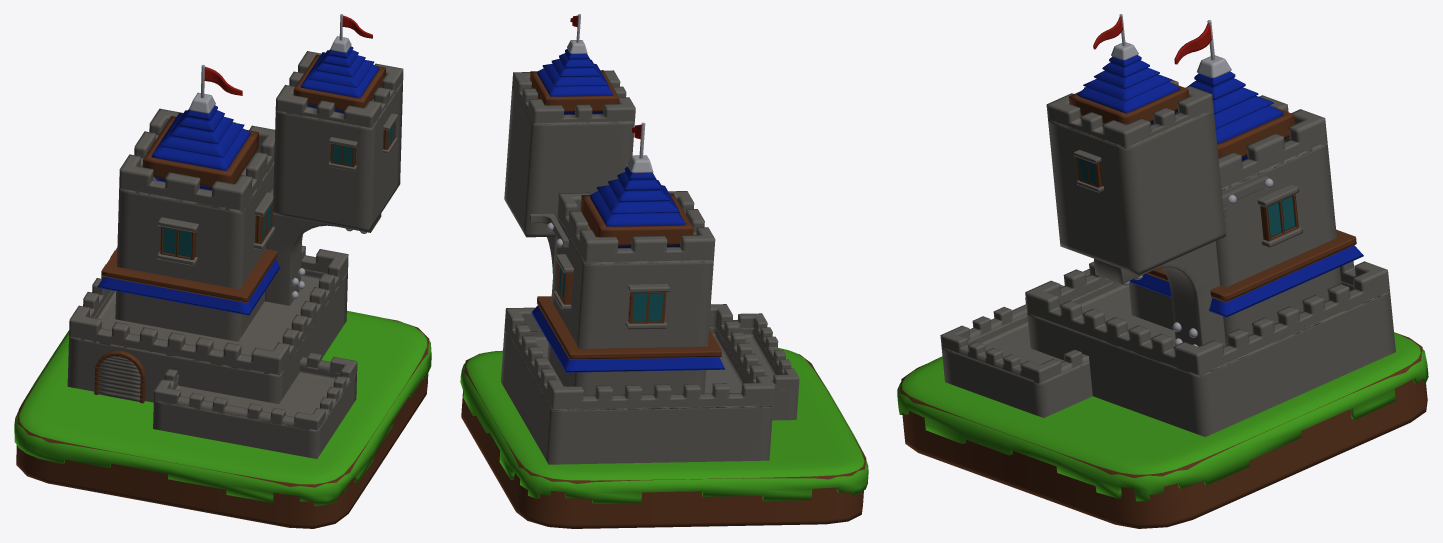
The model's file is castillo_numeros.glb.
The picture shows the model from 3 angles, left to right: view 1: azimuth 30°, elevation 25°; view 2: azimuth 150°, elevation 25°; view 3: azimuth 270°, elevation 25°; orthographic projection. The views are drawn at different scales.
Visible parts, largest first — view 1: Castle 6, Castle 6.010, Castle 6.009, Castle 6.007, Castle 6.032, Castle 6.008, Castle 6.014, Castle 6.016, Castle 6.006, Castle 6.013, Castle 6.015, Castle 6.033 (+10 smaller); view 2: Castle 6, Castle 6.007, Castle 6.010, Castle 6.032, Castle 6.009, Castle 6.014, Castle 6.016, Castle 6.006, Castle 6.015, Castle 6.031, Castle 6.030, Castle 6.027 (+8 smaller); view 3: Castle 6, Castle 6.007, Castle 6.009, Castle 6.032, Castle 6.010, Castle 6.014, Castle 6.008, Castle 6.033, Castle 6.015, Castle 6.016, Castle 6.013, Castle 6.027 (+8 smaller).
Boxes of the visible parts, x1,y1,x2,y2 form: Castle 6: (14, 311, 431, 506); Castle 6.010: (115, 157, 274, 341); Castle 6.009: (272, 82, 402, 231); Castle 6.007: (67, 269, 347, 403); Castle 6.032: (16, 318, 429, 528); Castle 6.008: (153, 367, 356, 458); Castle 6.014: (69, 245, 348, 375); Castle 6.016: (119, 108, 274, 212); Castle 6.006: (151, 105, 250, 190); Castle 6.013: (153, 352, 357, 431); Castle 6.015: (275, 51, 403, 129); Castle 6.033: (264, 188, 381, 305); Castle 6: (460, 348, 868, 503); Castle 6.007: (500, 327, 773, 464); Castle 6.010: (547, 217, 713, 395); Castle 6.032: (461, 353, 866, 528); Castle 6.009: (504, 86, 634, 237); Castle 6.014: (504, 304, 774, 410); Castle 6.016: (557, 191, 715, 264); Castle 6.006: (590, 166, 685, 247); Castle 6.015: (512, 70, 635, 124); Castle 6.031: (537, 296, 721, 359); Castle 6.030: (531, 305, 725, 372); Castle 6.027: (537, 49, 612, 114); Castle 6: (897, 332, 1428, 501); Castle 6.007: (1027, 281, 1395, 436); Castle 6.009: (1048, 109, 1225, 274); Castle 6.032: (900, 332, 1427, 528); Castle 6.010: (1129, 137, 1341, 345); Castle 6.014: (1025, 261, 1389, 376); Castle 6.008: (941, 315, 1092, 417); Castle 6.033: (1094, 241, 1225, 346); Castle 6.015: (1046, 80, 1213, 149); Castle 6.016: (1218, 95, 1327, 190); Castle 6.013: (940, 269, 1089, 383); Castle 6.027: (1077, 55, 1179, 124).
Bounding box in the file's own units: 8.43 × 8.5 × 8.42.
